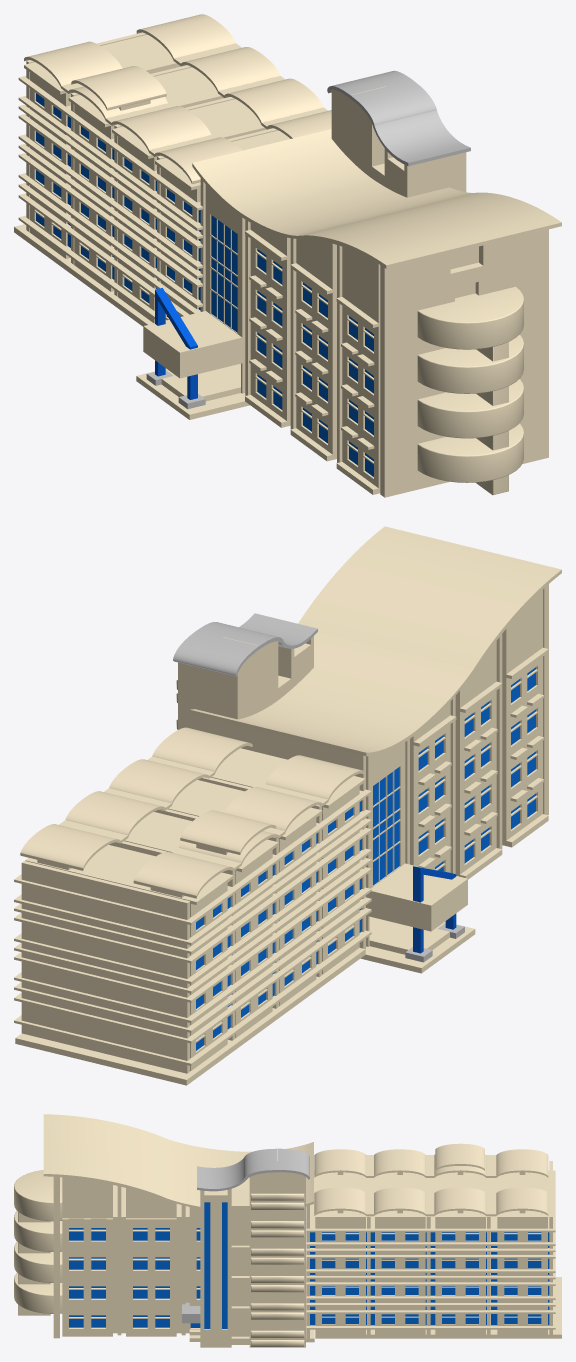
Rendered from 언정대.fbx.
3 renders of one model, top to bottom at view 1: azimuth 30°, elevation 25°; view 2: azimuth 150°, elevation 25°; view 3: azimuth 270°, elevation 25°, orthographic. The views are drawn at different scales.
Parts seen in each view (by area): view 1: 언정대; view 2: 언정대; view 3: 언정대.
Boxes of the visible parts, left/top/right/bottom form: 언정대: left=14, top=14, right=561, bottom=497; 언정대: left=14, top=526, right=561, bottom=1085; 언정대: left=14, top=1114, right=561, bottom=1347.
Bounding box in the file's own units: 436 × 430 × 1179.
